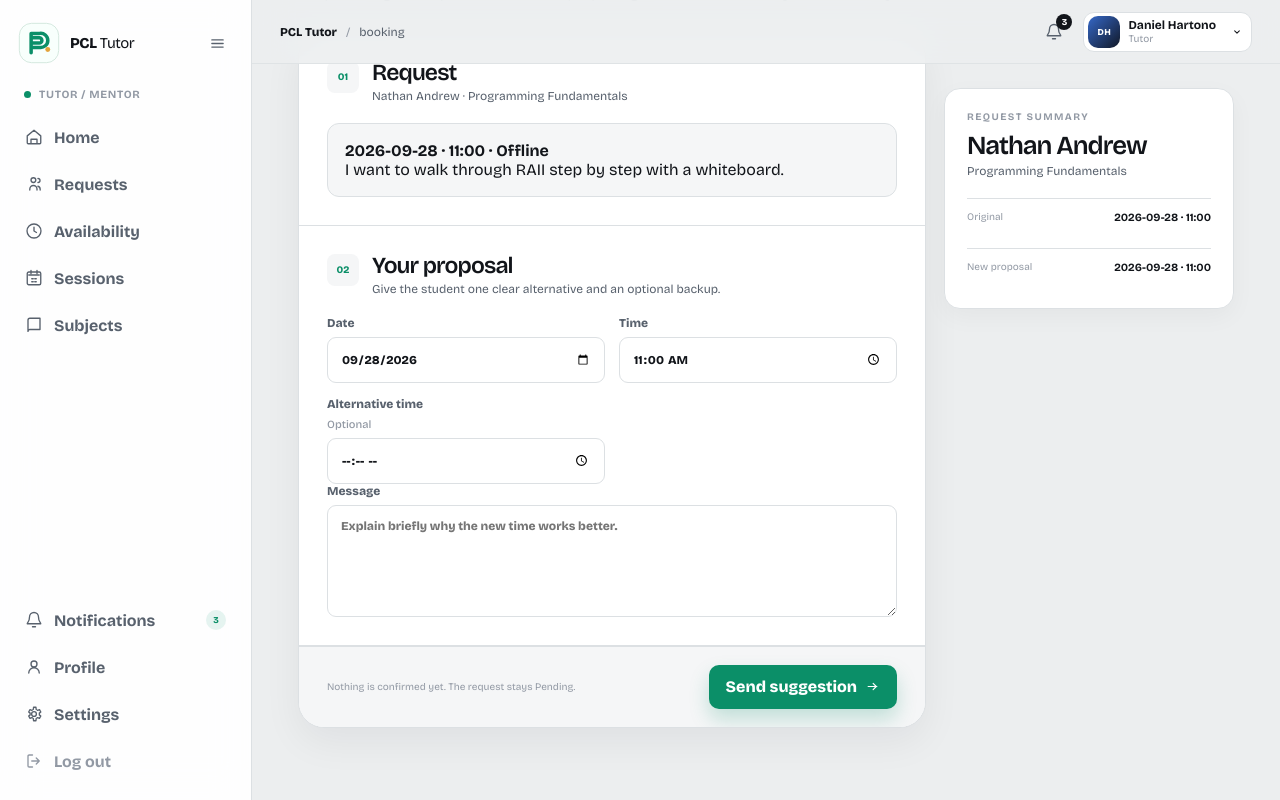
Scenario: suggest another time form › does not send the suggestion when Enter is pressed in the message box
(page scrolled)
In the text box labelled "Message": x=612, y=561 top-left (327, 505), bottom-right (897, 617), type "This slot suits me better"
Then press Enter
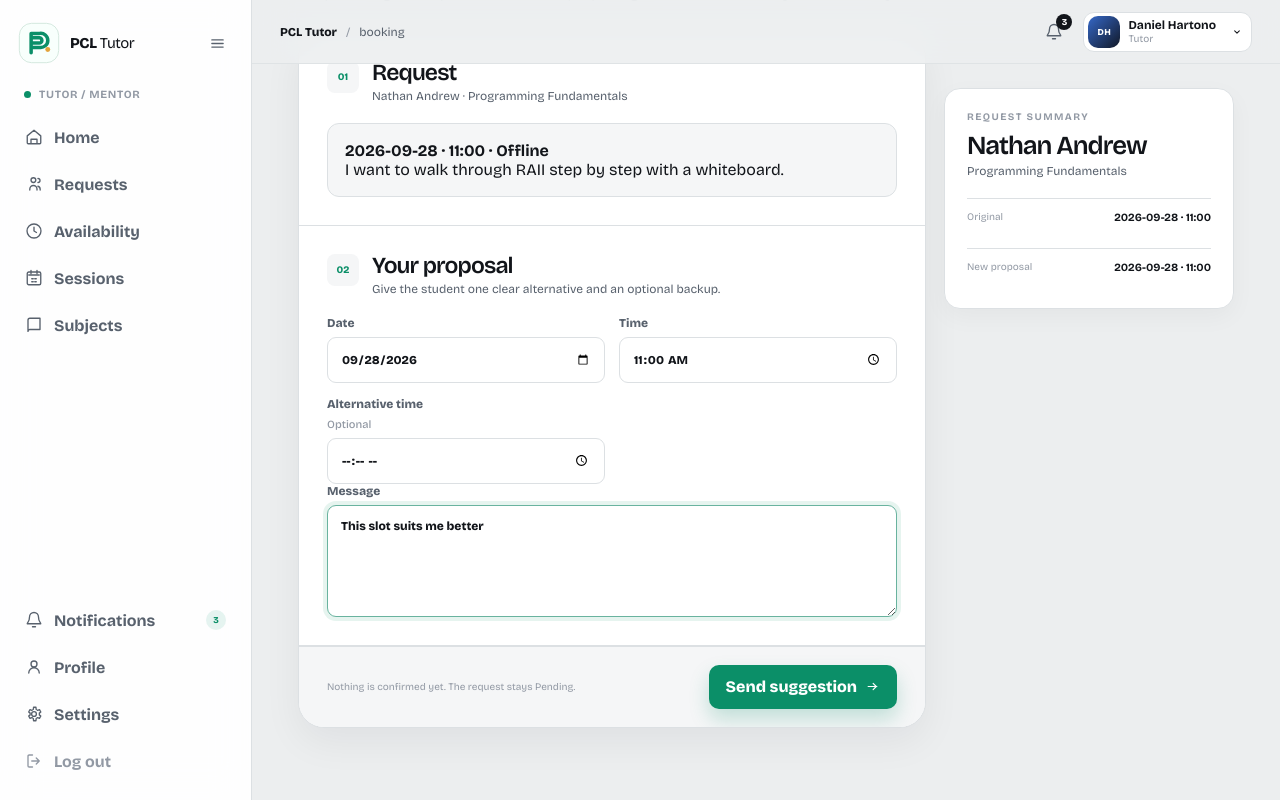
Click the button "Send suggestion": x=803, y=687 top-left (709, 665), bottom-right (897, 709)
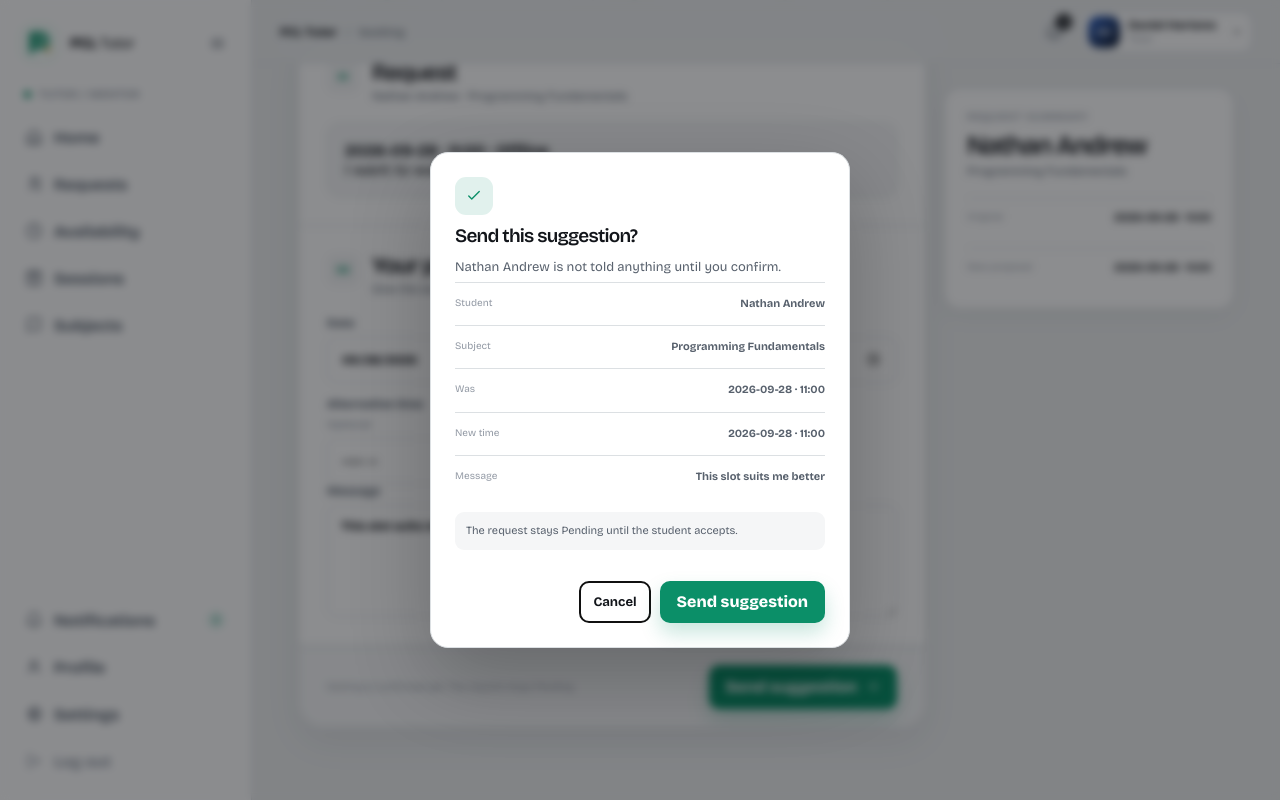
Result: the dialog is shown at top-left (430, 152), bottom-right (850, 648)
